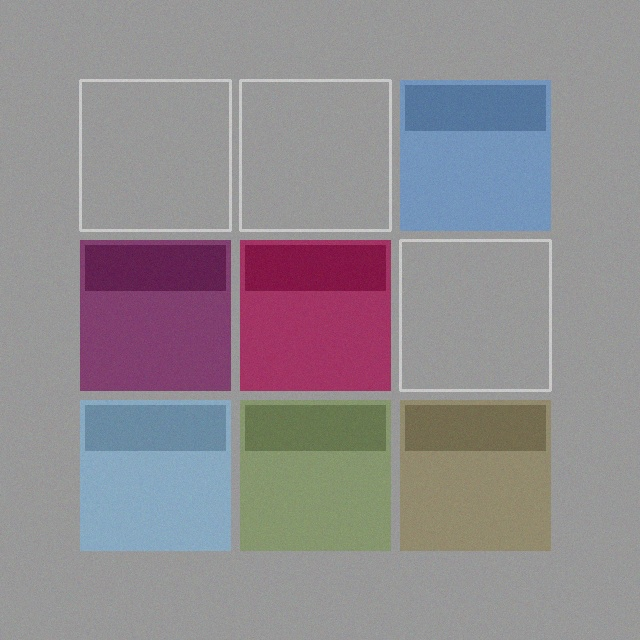space-empty: (80, 80, 230, 230), (240, 80, 390, 230), (400, 240, 550, 390)
space-occupied: (400, 80, 550, 230), (80, 240, 230, 390), (240, 240, 390, 390), (80, 400, 230, 550), (240, 400, 390, 550), (400, 400, 550, 550)
